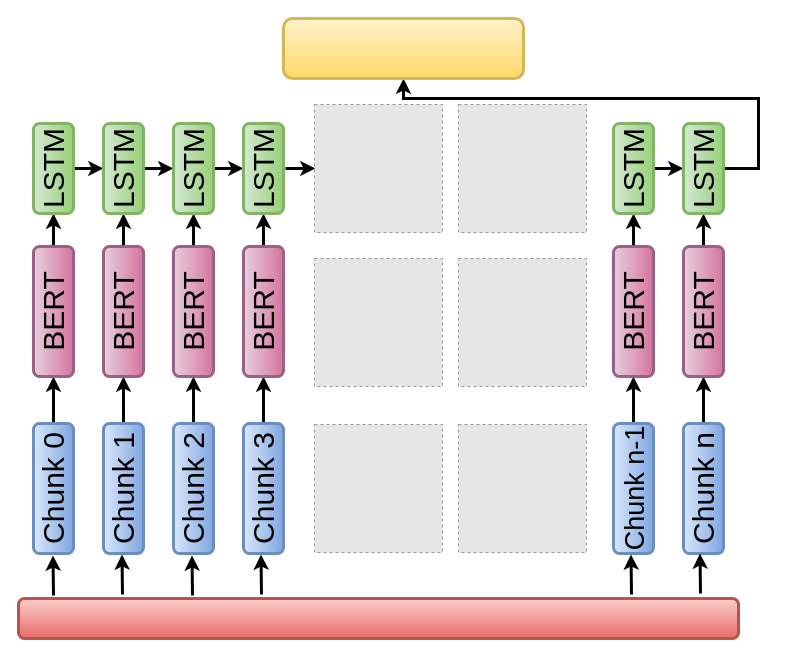
Image size: 785x657. Some labels were removed from this diagram. Grey dashed boxes stand in for pictures. Each missing label, with the centre of its shape:
Long Comments: the point at 378,618
MLP Head: the point at 403,48
